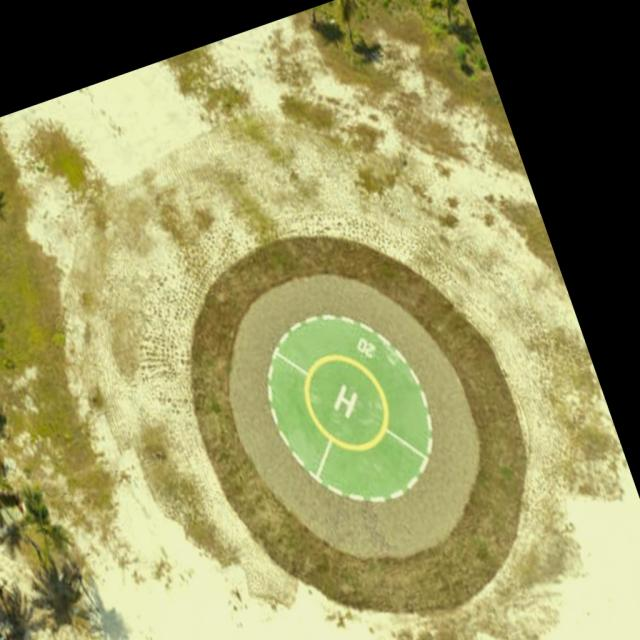helipad: (300, 349, 394, 453)
